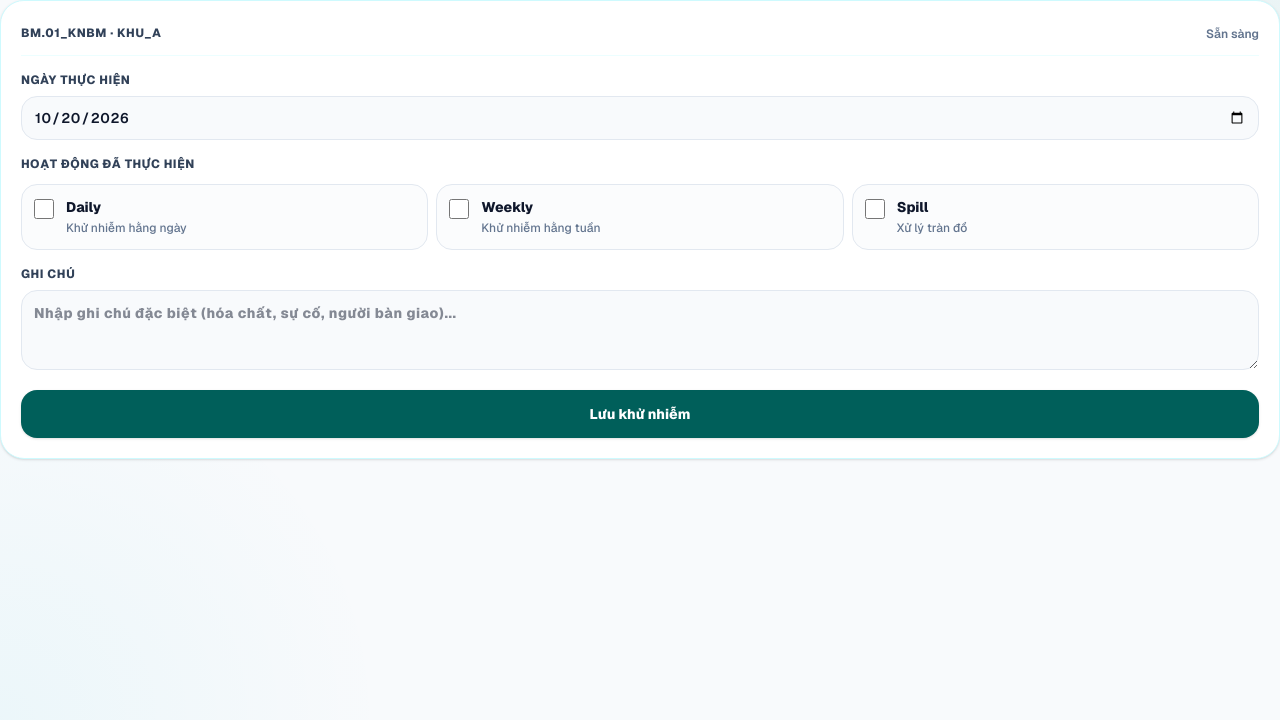
Test: Task 3: BM01_KNBM Decontamination Save Reliability › handles successful save: shows 'Đã lưu thành công' and clears local draft
What coordinates should you click on to do the following:
click the checkbox labelled "Daily Khử nhiễm hằng ngày"
I would click on:
 (44, 209)
Its box is [34,199,54,219].
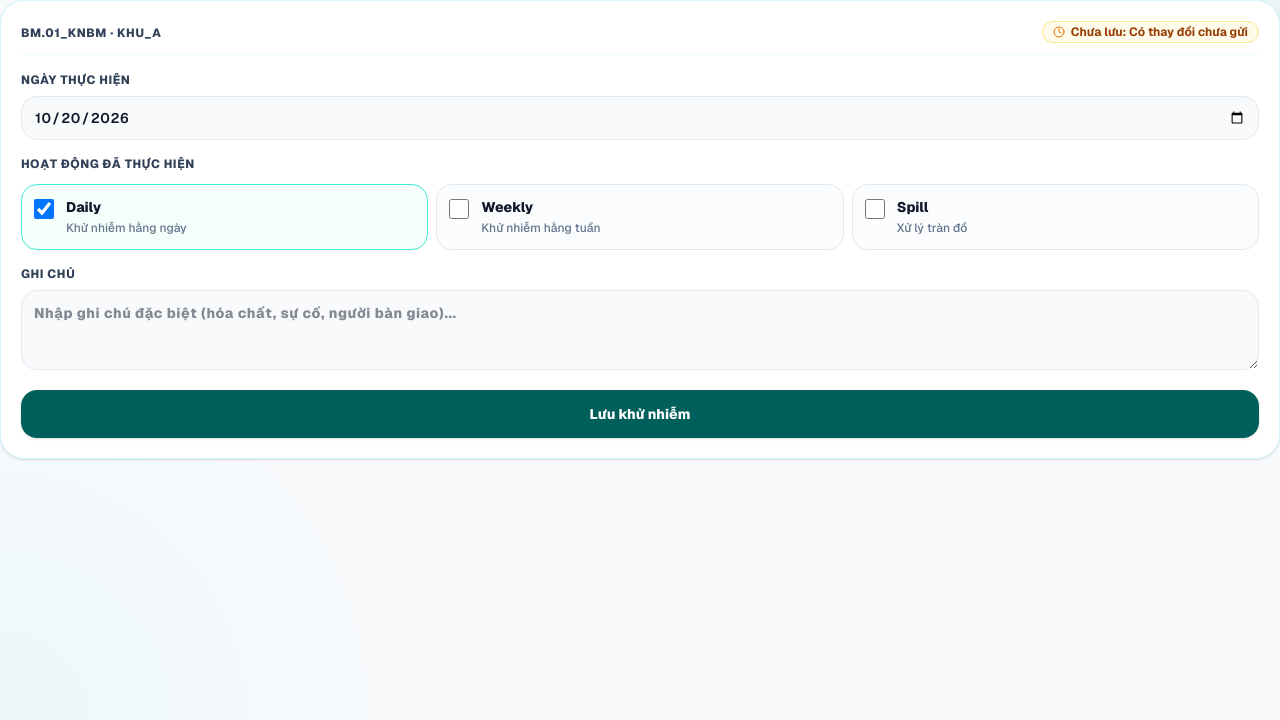
What coordinates should you click on to do the following:
click the button "Lưu khử nhiễm"
I would click on:
 (640, 414)
Its box is [21,390,1259,438].
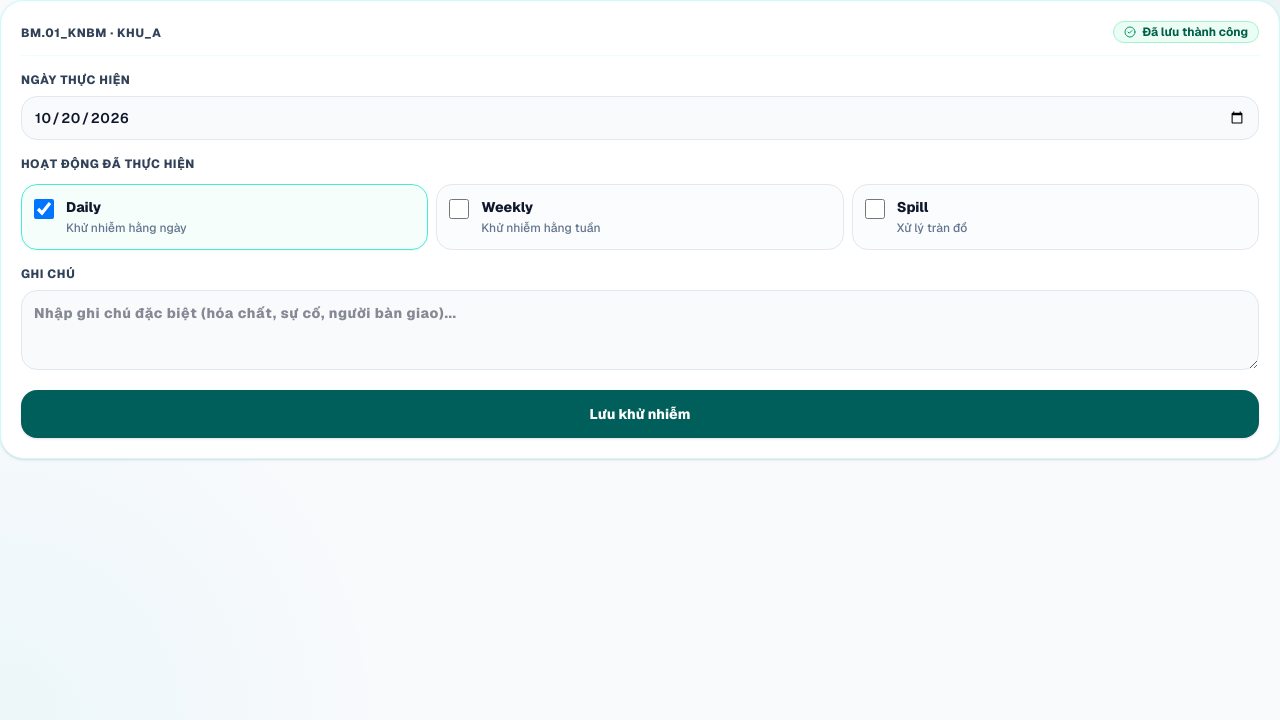
Check: the text "Đã lưu thành công" is shown, box [1113,21,1259,43]
